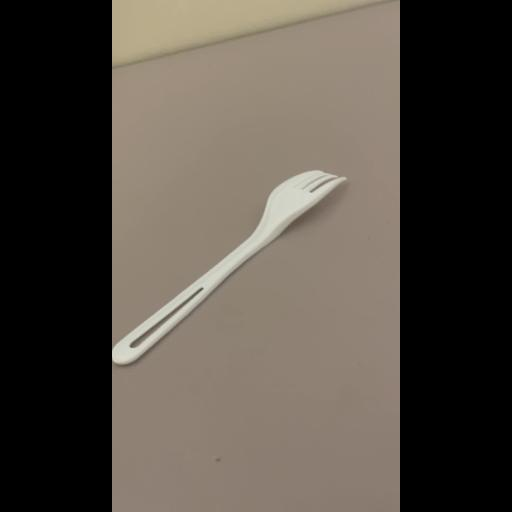utensil: (112, 162, 348, 370)
